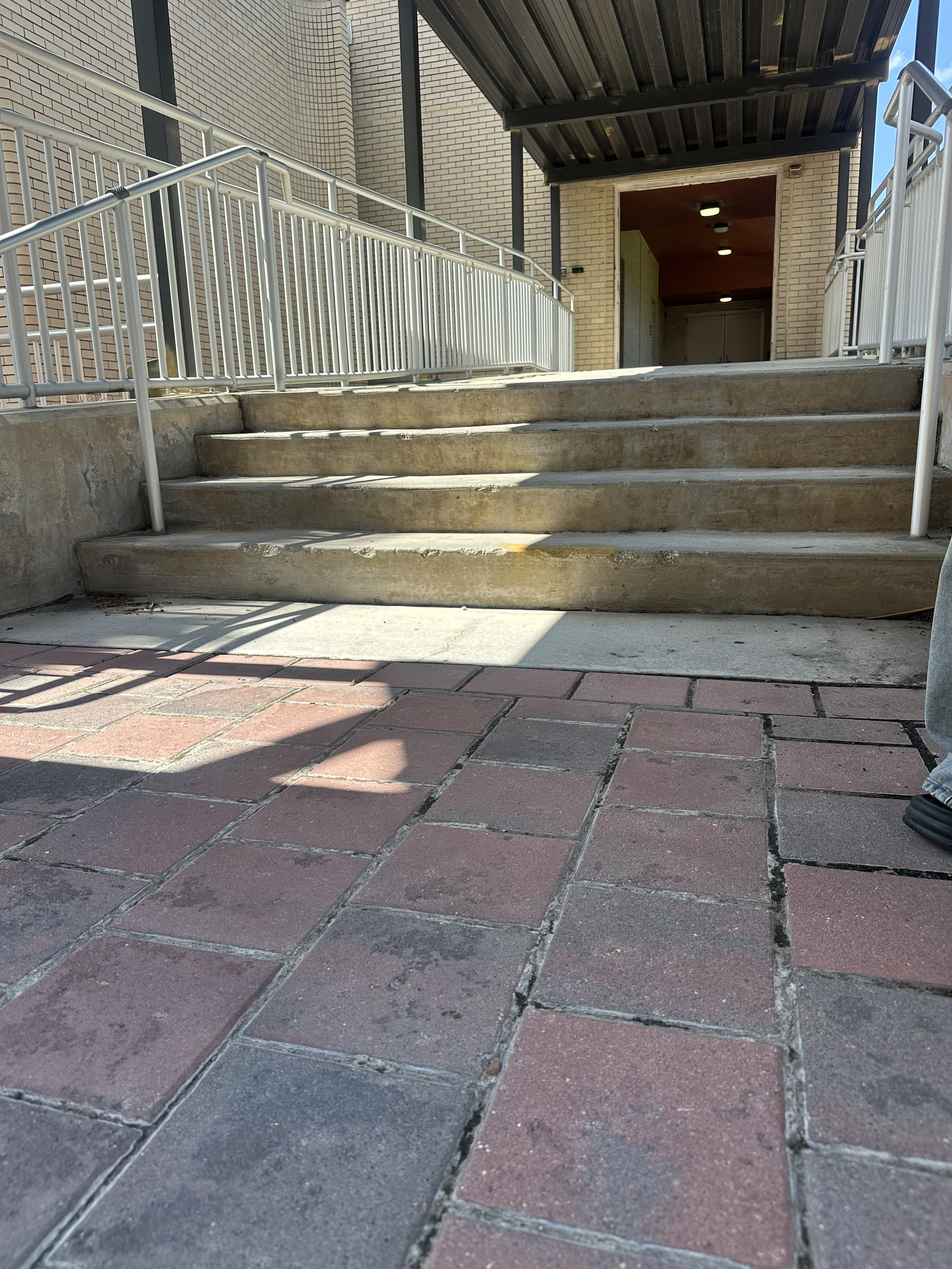stairs: (82, 364, 952, 614)
